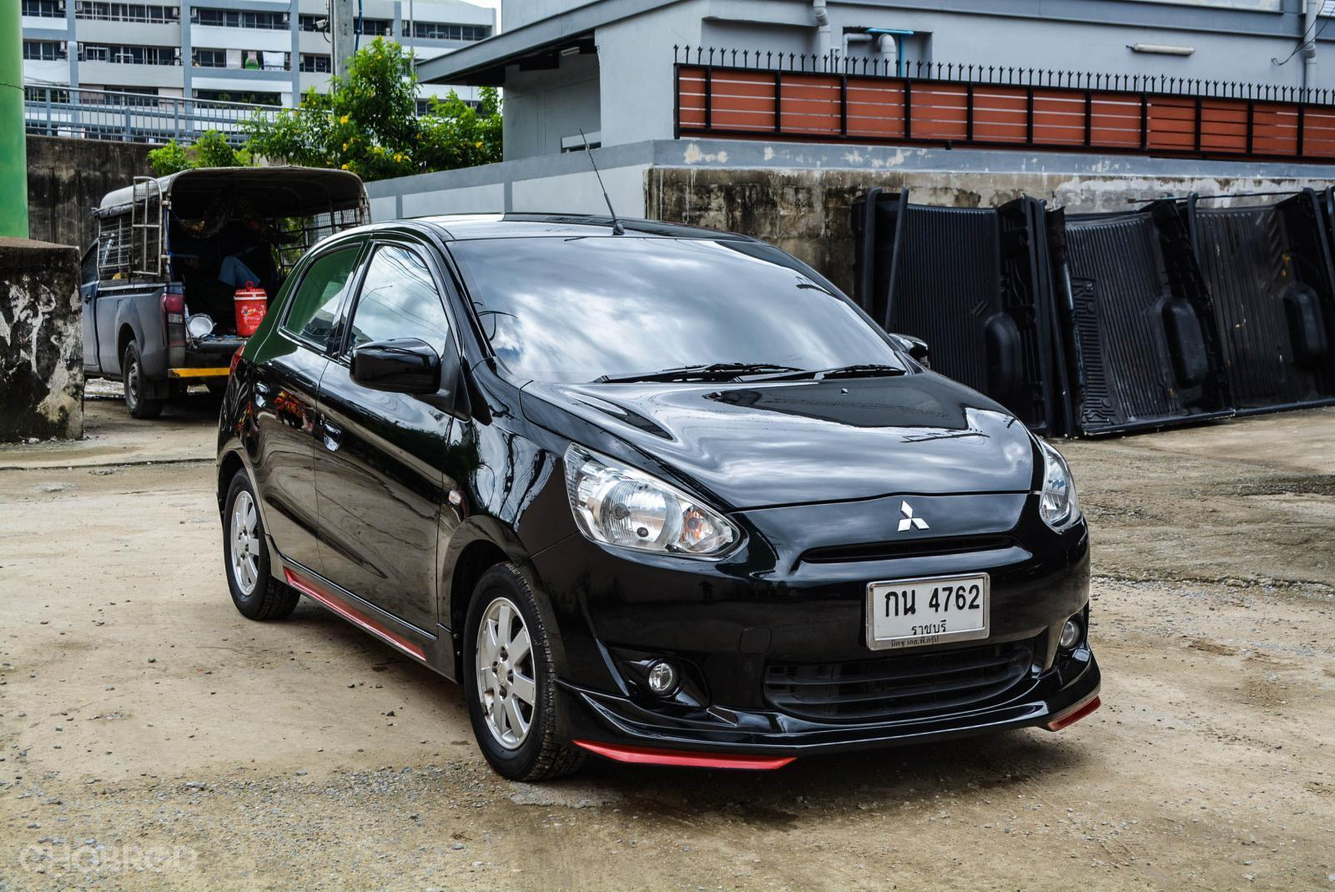license-plate: (863, 571, 995, 652)
